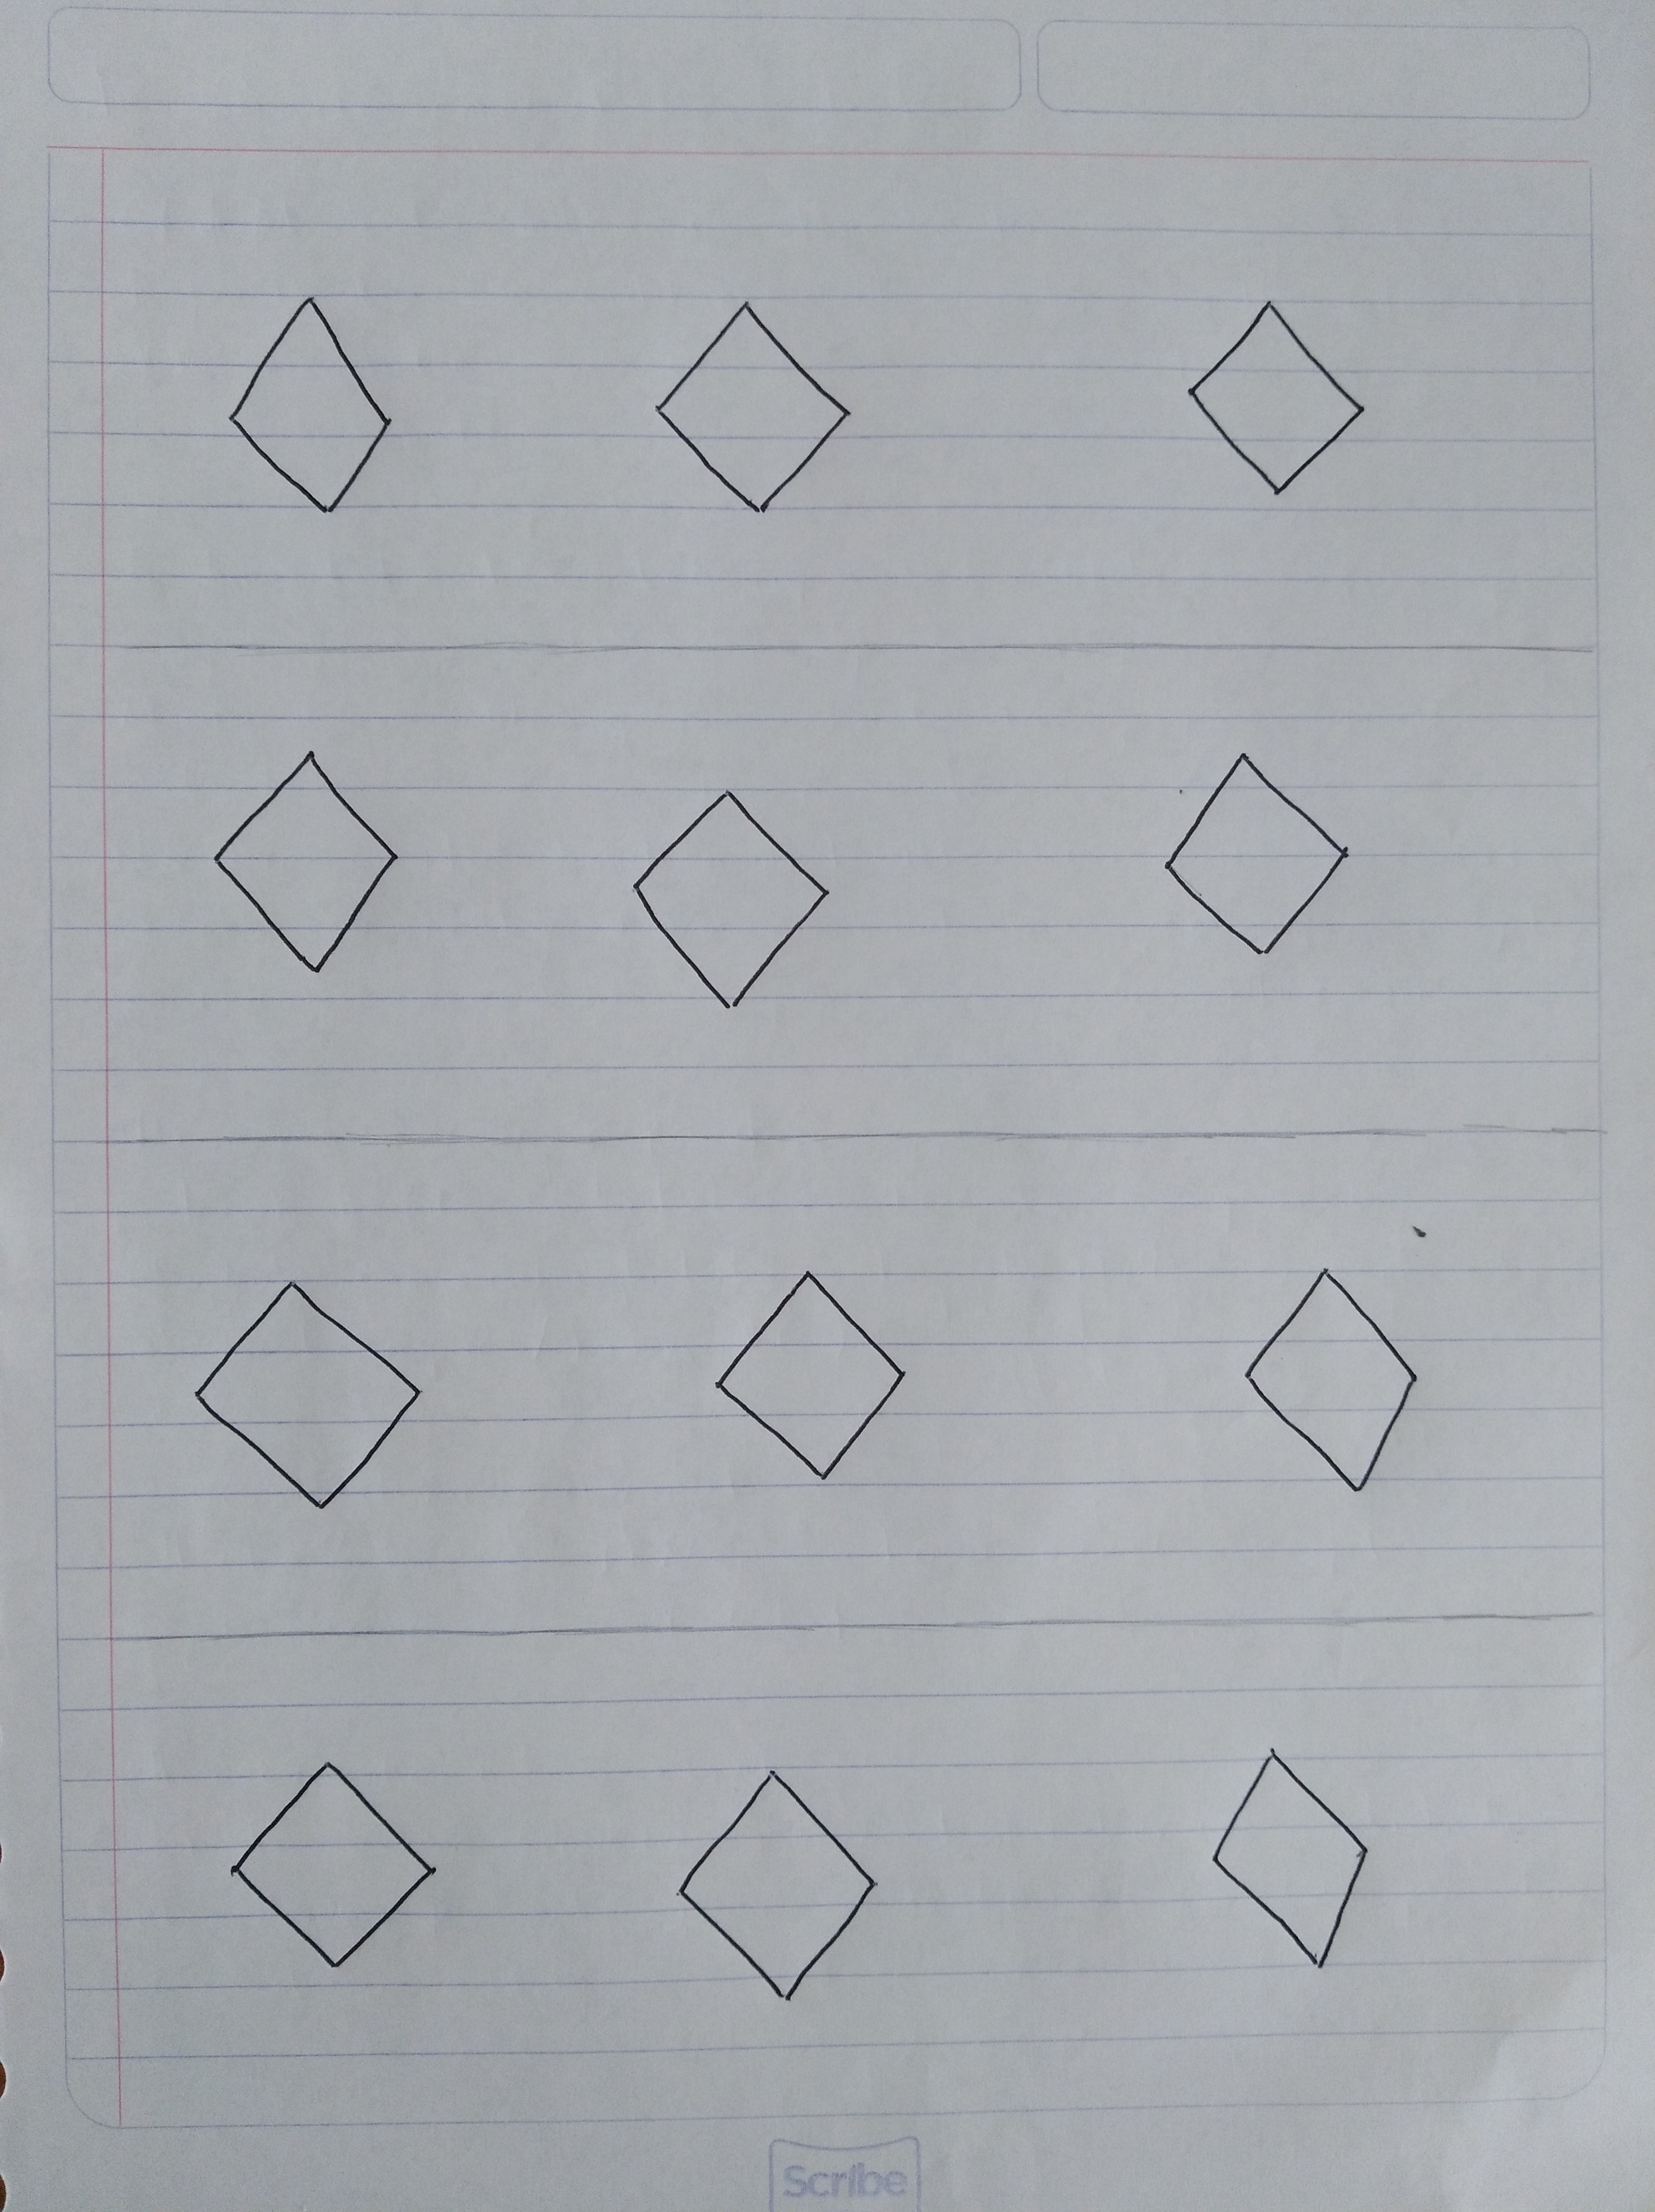decision: (125, 1249, 492, 1538), (143, 709, 469, 1023), (582, 742, 887, 1037), (636, 1732, 921, 2045), (1121, 725, 1401, 1013), (184, 1724, 487, 1990), (688, 1232, 953, 1531), (1165, 1713, 1422, 2014), (1144, 259, 1408, 544), (1210, 1239, 1467, 1524), (184, 262, 438, 551), (633, 269, 864, 561)
